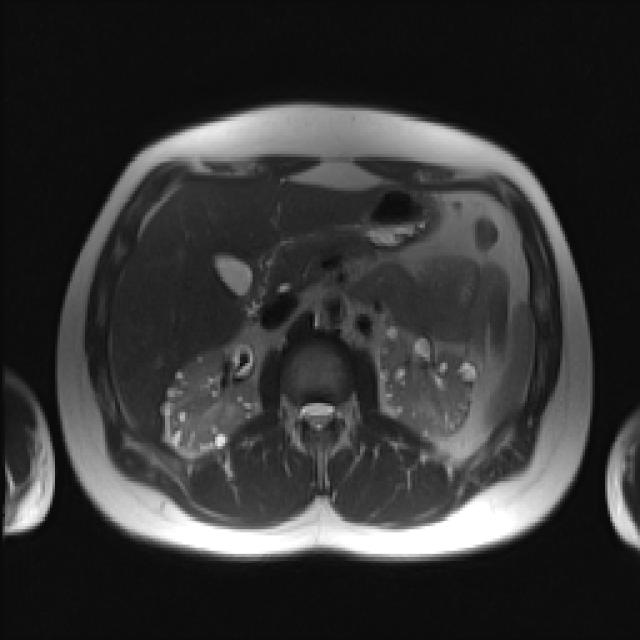sag: (161, 348, 259, 452)
sol: (378, 320, 477, 436)
